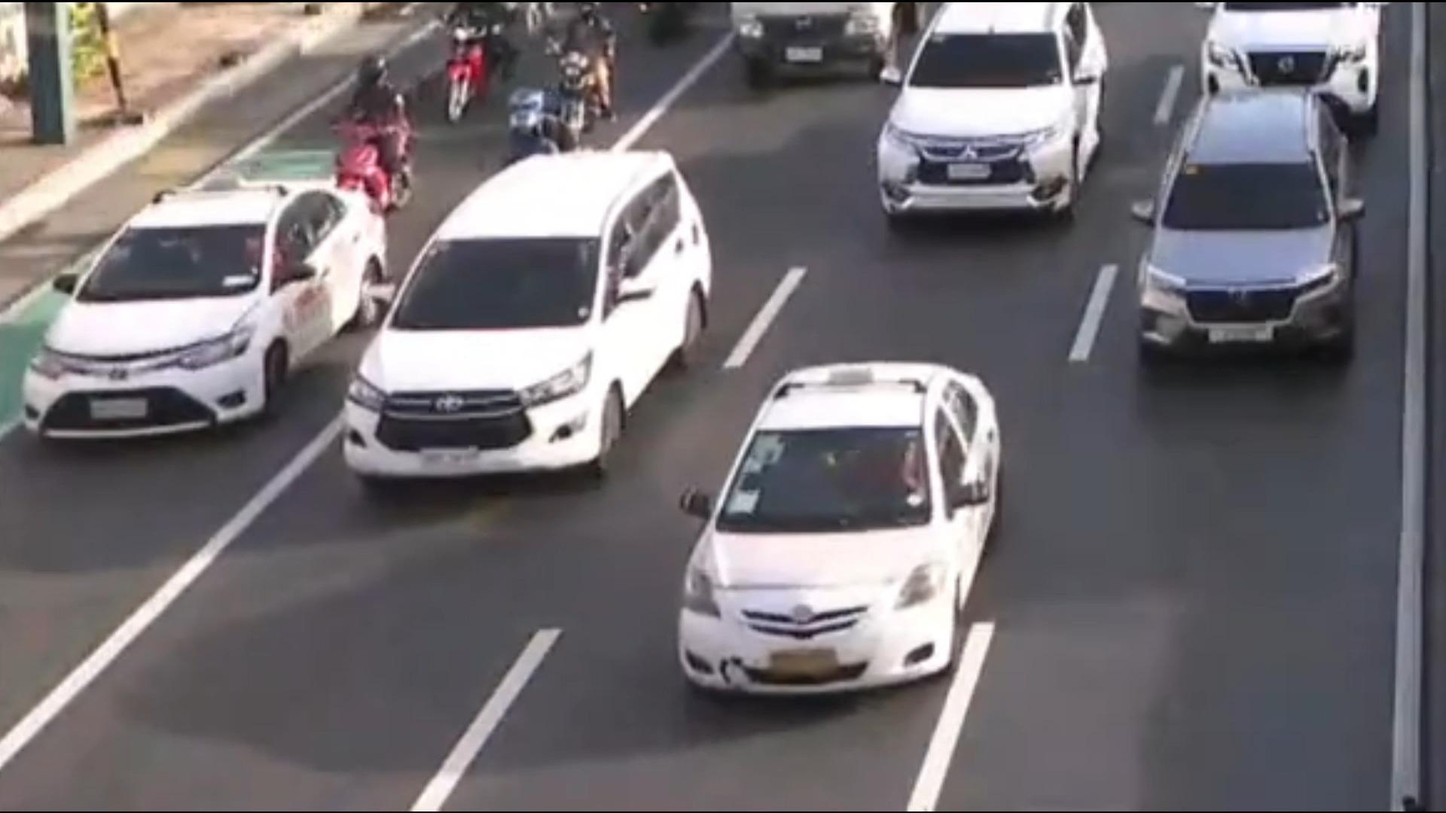Motorcycle: (327, 39, 425, 218), (435, 0, 525, 129), (556, 0, 633, 132)
SUV: (337, 135, 723, 480), (1133, 83, 1376, 378), (871, 0, 1125, 230), (1193, 0, 1392, 123)
Sedan: (667, 359, 1011, 708), (15, 173, 397, 440)
